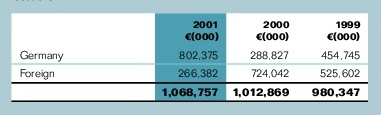table: (0, 0, 381, 115)
